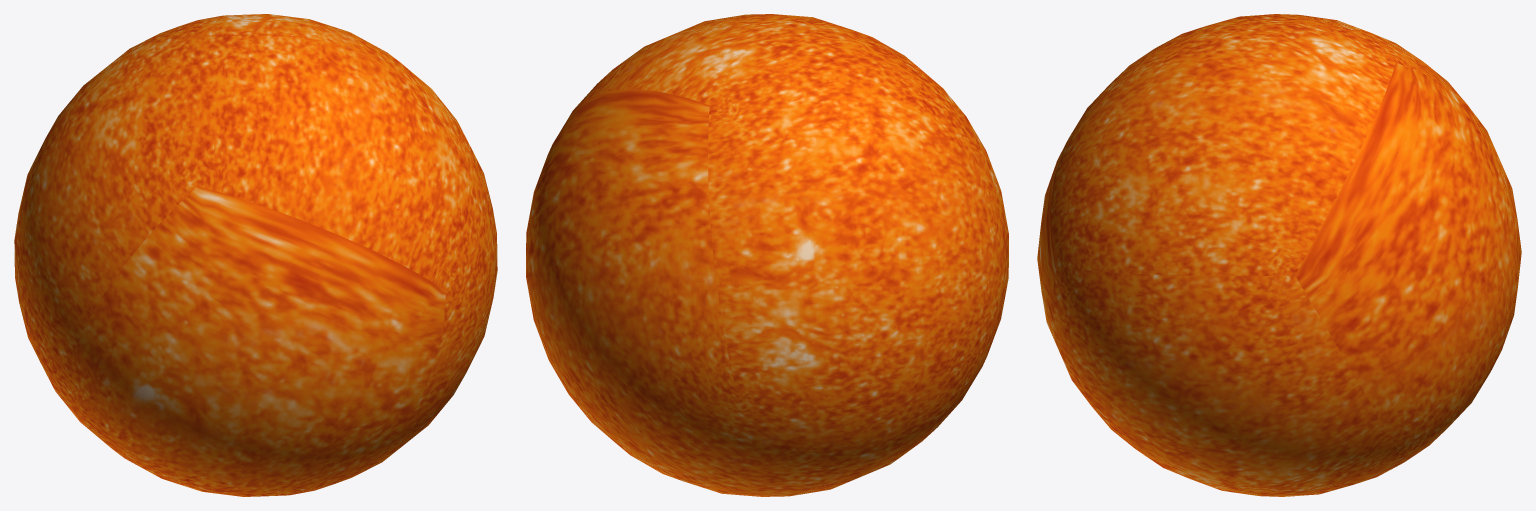
Rendered from sun.obj.
3 renders of one model, left to right at view 1: azimuth 30°, elevation 25°; view 2: azimuth 150°, elevation 25°; view 3: azimuth 270°, elevation 25°, orthographic.
Parts seen in each view (by area): view 1: Sun_Cube.002; view 2: Sun_Cube.002; view 3: Sun_Cube.002.
Part boxes in pixels (x1,y1,x2,y2): Sun_Cube.002: (14,14,497,496); Sun_Cube.002: (526,14,1008,496); Sun_Cube.002: (1037,14,1521,496).
Bounding box in the file's own units: 6.76 × 6.76 × 6.78.
1 material, 1 textured.
